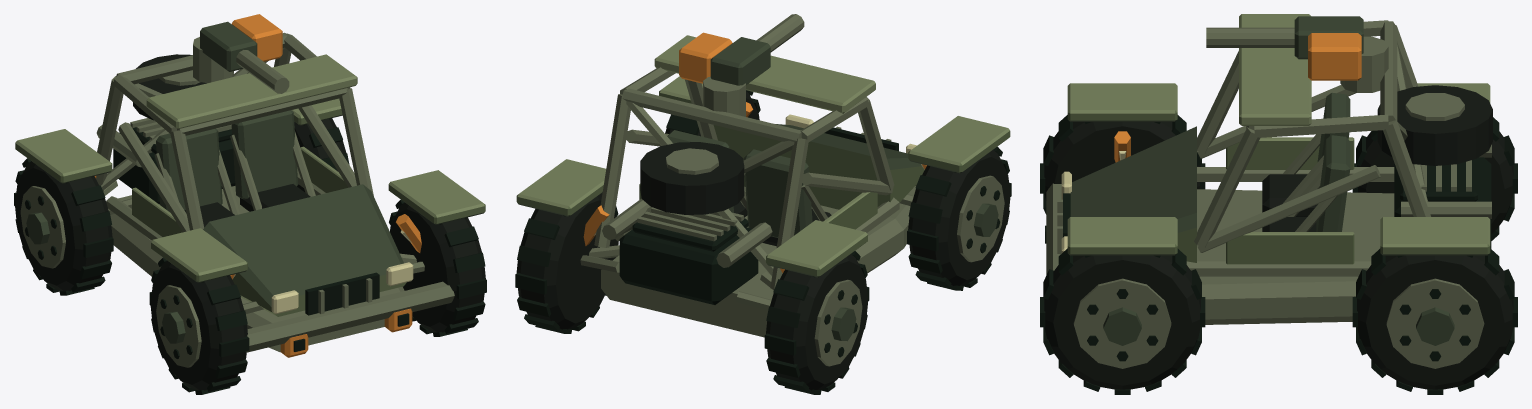
The model's file is buggy_field.glb.
The picture shows the model from 3 angles, left to right: view 1: azimuth 30°, elevation 25°; view 2: azimuth 150°, elevation 25°; view 3: azimuth 270°, elevation 25°; orthographic projection. The views are drawn at different scales.
Visible parts, largest first — view 1: Body, Wheel_-0.85_-0.84, Wheel_-0.85_0.84, Wheel_0.85_-0.84, WeaponPitch, Wheel_0.85_0.84; view 2: Body, Wheel_-0.85_0.84, Wheel_-0.85_-0.84, Wheel_0.85_0.84, WeaponPitch, Wheel_0.85_-0.84; view 3: Body, Wheel_0.85_0.84, Wheel_0.85_-0.84, WeaponPitch, Wheel_-0.85_-0.84, Wheel_-0.85_0.84.
Boxes of the visible parts, x1,y1,x2,y2 form: Body: [15, 32, 485, 357]; Wheel_-0.85_-0.84: [149, 257, 249, 394]; Wheel_-0.85_0.84: [14, 158, 113, 295]; Wheel_0.85_-0.84: [389, 199, 486, 336]; WeaponPitch: [200, 14, 289, 93]; Wheel_0.85_0.84: [294, 118, 349, 192]; Body: [516, 35, 1010, 337]; Wheel_-0.85_0.84: [764, 251, 869, 394]; Wheel_-0.85_-0.84: [907, 146, 1011, 290]; Wheel_0.85_0.84: [515, 192, 618, 333]; WeaponPitch: [679, 14, 804, 85]; Wheel_0.85_-0.84: [665, 90, 760, 136]; Body: [1045, 14, 1492, 324]; Wheel_0.85_0.84: [1352, 248, 1517, 394]; Wheel_0.85_-0.84: [1040, 248, 1205, 394]; WeaponPitch: [1206, 16, 1363, 80]; Wheel_-0.85_-0.84: [1040, 115, 1205, 214]; Wheel_-0.85_0.84: [1352, 117, 1517, 240].
Bounding box in the file's own units: 3.39 × 2.82 × 4.11.
1 material, 1 textured.
